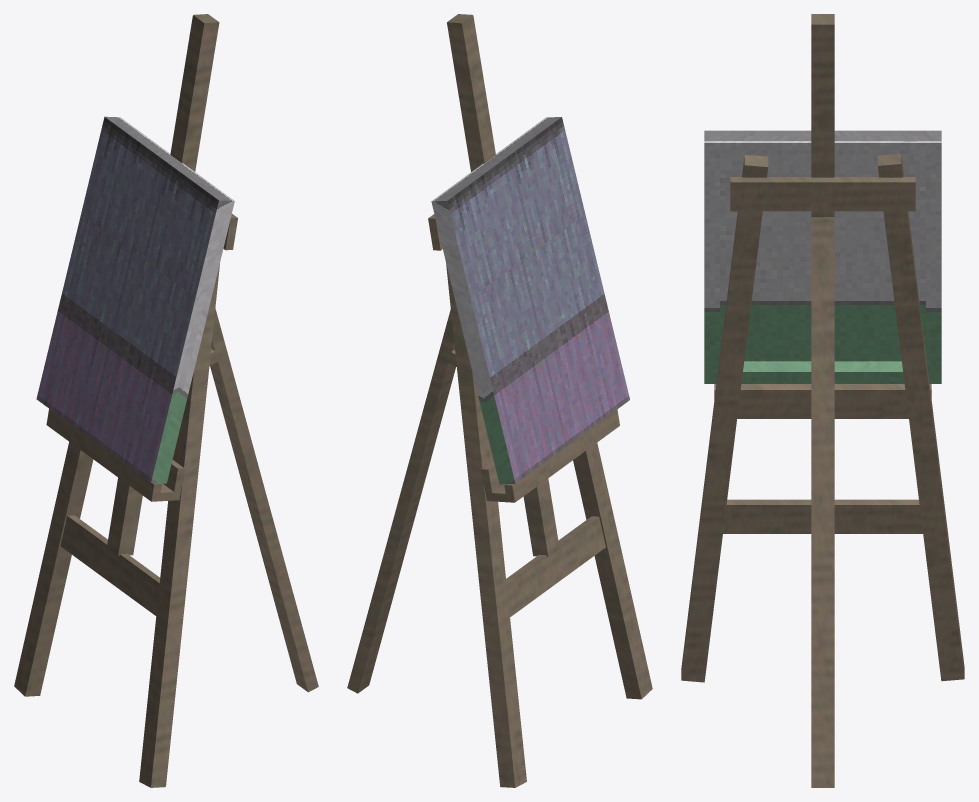
The model's file is Painting_Grp.fbx.
3 views of the same model, side by side, from view 1: azimuth 30°, elevation 25°; view 2: azimuth 150°, elevation 25°; view 3: azimuth 270°, elevation 25° (orthographic). The views are drawn at different scales.
Parts seen in each view (by area): view 1: Painting, Easel; view 2: Painting, Easel; view 3: Easel, Painting.
Boxes of the visible parts, x1=… form: Painting: x1=36, y1=116, x2=234, y2=483; Easel: x1=14, y1=14, x2=318, y2=787; Painting: x1=431, y1=117, x2=629, y2=484; Easel: x1=347, y1=14, x2=652, y2=787; Easel: x1=681, y1=14, x2=964, y2=787; Painting: x1=704, y1=130, x2=941, y2=383.
Bounding box in the file's own units: 70.29 × 202 × 72.13.
